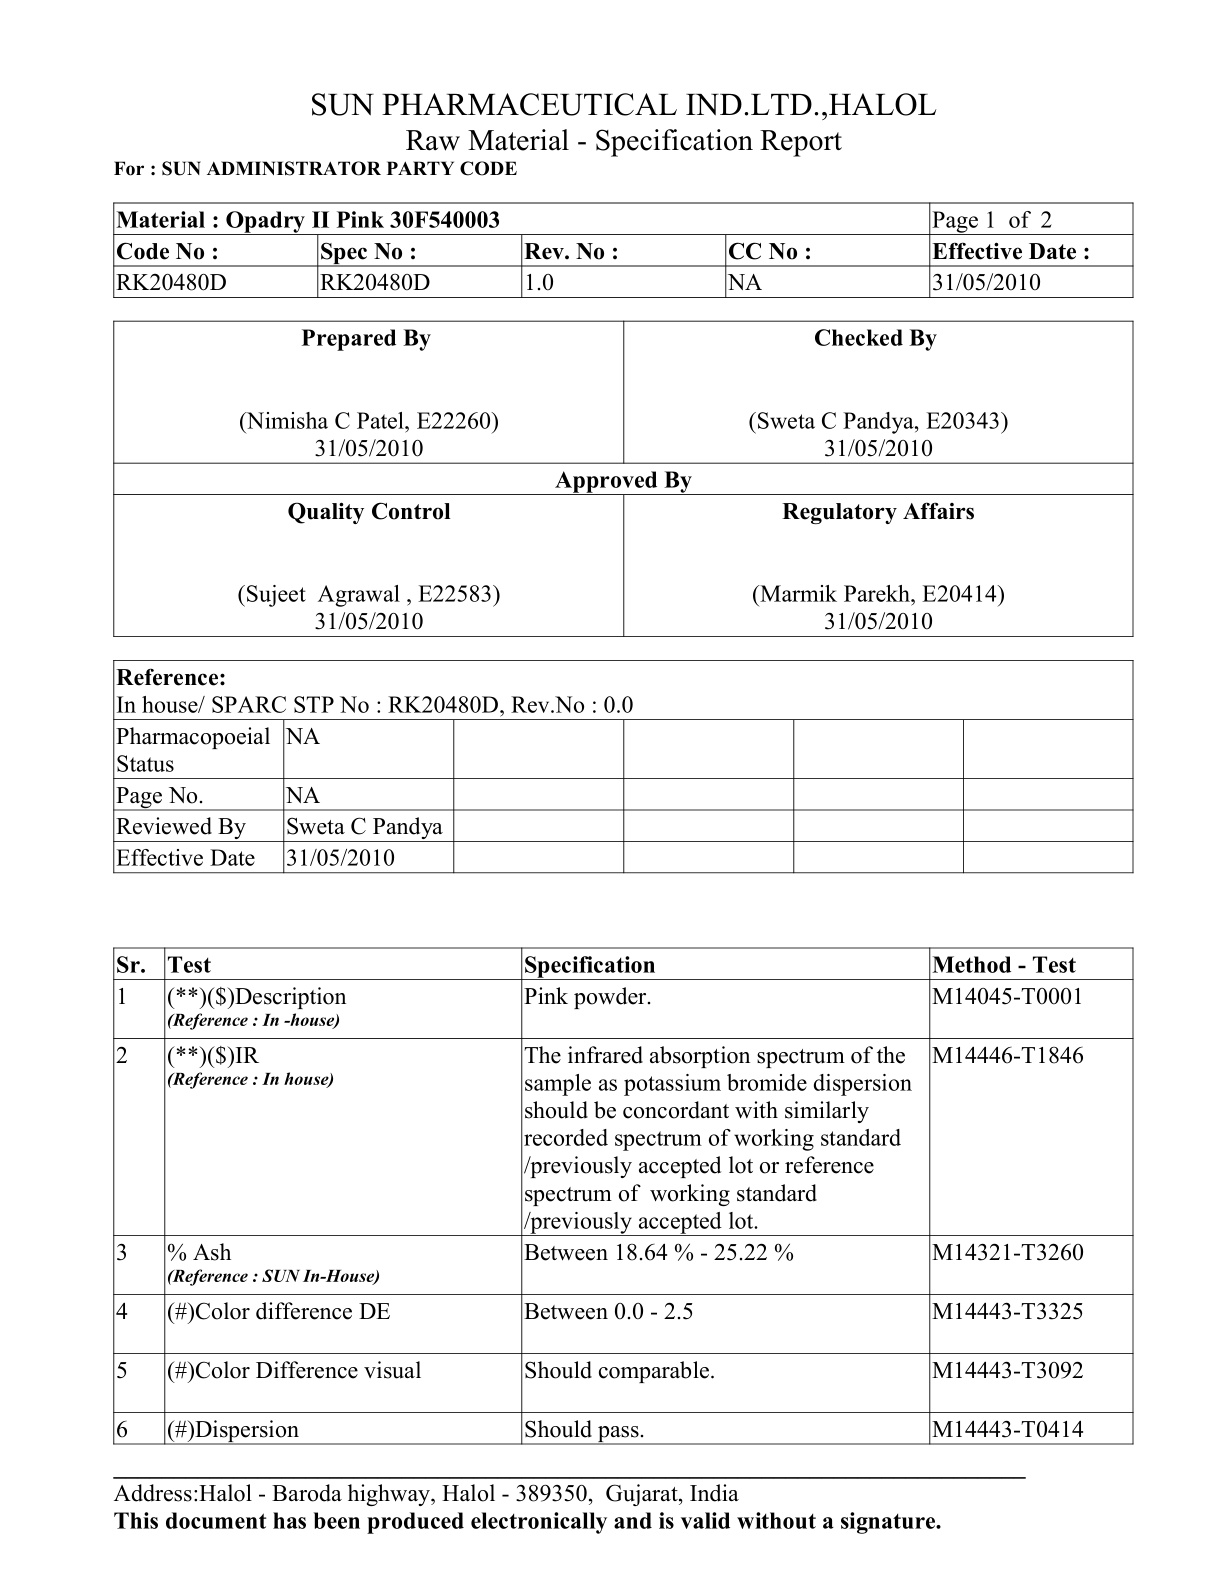full_lined: (111, 946, 1134, 1446)
merged_cells: (112, 320, 1133, 638), (111, 660, 1133, 874), (112, 202, 1134, 300)
